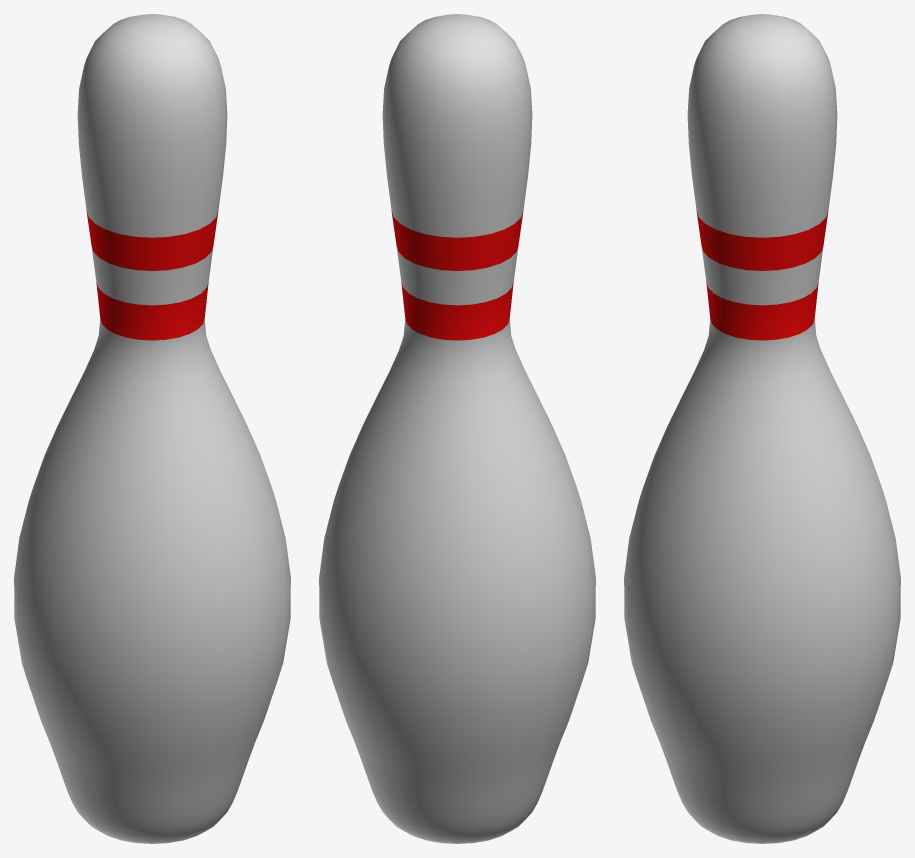
File: bowling_pin.glb
The picture shows the model from 3 angles, left to right: view 1: azimuth 30°, elevation 25°; view 2: azimuth 150°, elevation 25°; view 3: azimuth 270°, elevation 25°; orthographic projection.
Visible parts, largest first — view 1: pin; view 2: pin; view 3: pin.
Part boxes in pixels (x1,y1,x2,y2): pin: (14, 14, 290, 843); pin: (319, 14, 595, 843); pin: (624, 14, 900, 843).
Size of the model in its own units: 0.1184 by 0.38 by 0.1184.
